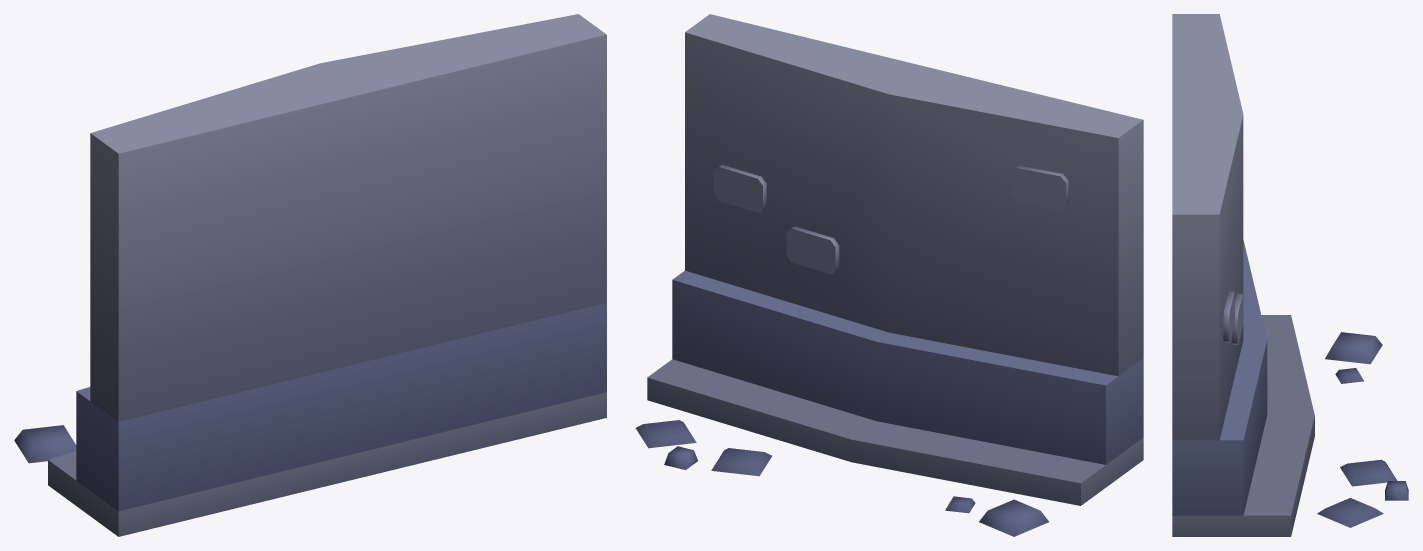
File: template-wall.gltf
The picture shows the model from 3 angles, left to right: view 1: azimuth 30°, elevation 25°; view 2: azimuth 150°, elevation 25°; view 3: azimuth 270°, elevation 25°; orthographic projection. The views are drawn at different scales.
Visible parts, largest first — view 1: template-wall; view 2: template-wall; view 3: template-wall.
Part boxes in pixels (x1,y1,x2,y2): template-wall: (14,14,606,536); template-wall: (635,14,1143,536); template-wall: (1172,14,1408,536).
Bounding box in the file's own units: 4 × 3 × 1.99.
1 material, 1 textured.
